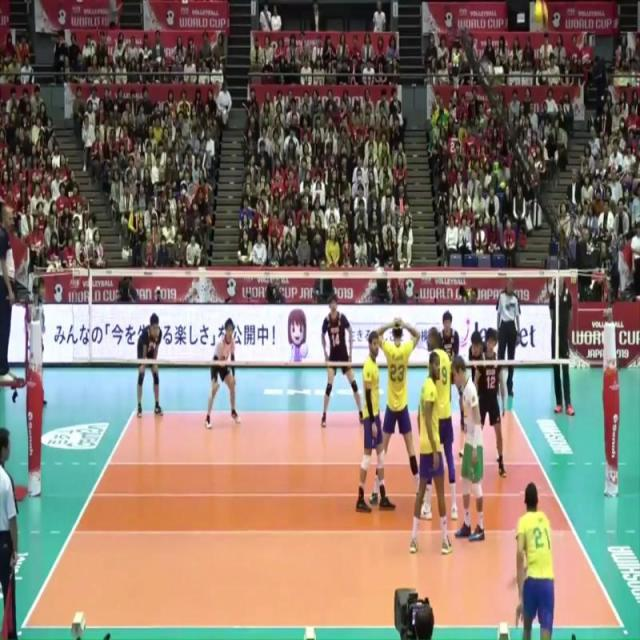volleyball: (530, 0, 548, 33)
